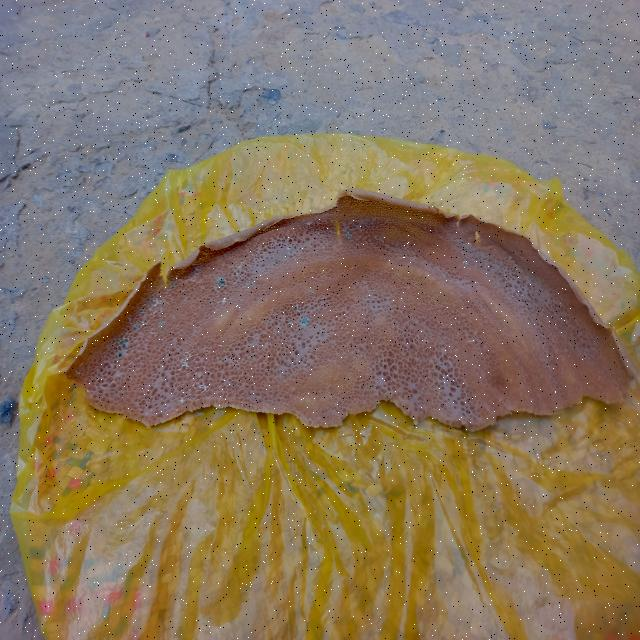injera_mold: (150, 294, 166, 316), (118, 337, 129, 354), (196, 381, 209, 395), (180, 354, 192, 369), (218, 276, 225, 288), (148, 328, 156, 336), (238, 261, 244, 271), (346, 231, 352, 240), (160, 319, 166, 328), (167, 294, 174, 301), (172, 280, 178, 288), (461, 260, 469, 266), (186, 393, 192, 401), (127, 314, 133, 322), (302, 316, 307, 325), (76, 369, 81, 377), (148, 406, 153, 414), (248, 281, 254, 287), (140, 319, 145, 326), (221, 297, 226, 304), (296, 304, 300, 312), (307, 220, 311, 228), (183, 296, 188, 302), (86, 388, 91, 394), (180, 397, 184, 404), (134, 326, 139, 331), (247, 317, 252, 322), (138, 308, 142, 314), (118, 354, 124, 358), (194, 358, 198, 364), (217, 344, 223, 348), (286, 245, 290, 251), (192, 382, 195, 390), (144, 311, 148, 317), (105, 364, 109, 370), (305, 360, 308, 367), (184, 350, 189, 354), (146, 297, 150, 301), (144, 346, 148, 350), (145, 338, 149, 342), (309, 291, 314, 294), (115, 354, 118, 359), (111, 379, 114, 384), (240, 297, 243, 302), (596, 336, 599, 341), (178, 368, 181, 373), (195, 266, 198, 271), (205, 349, 209, 352), (122, 395, 124, 401), (318, 231, 320, 237), (288, 322, 291, 326), (195, 371, 197, 376), (298, 227, 303, 229), (167, 276, 169, 281), (217, 300, 219, 305), (97, 378, 100, 381), (160, 338, 163, 341), (559, 302, 562, 305), (180, 389, 183, 392), (512, 294, 514, 298), (506, 277, 508, 281), (236, 272, 238, 276), (254, 286, 256, 290), (273, 261, 275, 265), (175, 340, 178, 342), (516, 268, 518, 271), (521, 294, 523, 297), (505, 256, 507, 259), (176, 409, 178, 412), (146, 322, 148, 325), (340, 326, 342, 329), (504, 274, 506, 276), (348, 350, 350, 352), (551, 315, 552, 318), (551, 305, 552, 308), (257, 278, 258, 280)
